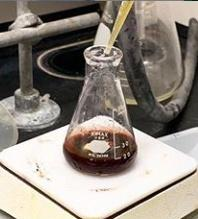Titrarion: (58, 44, 141, 167)
